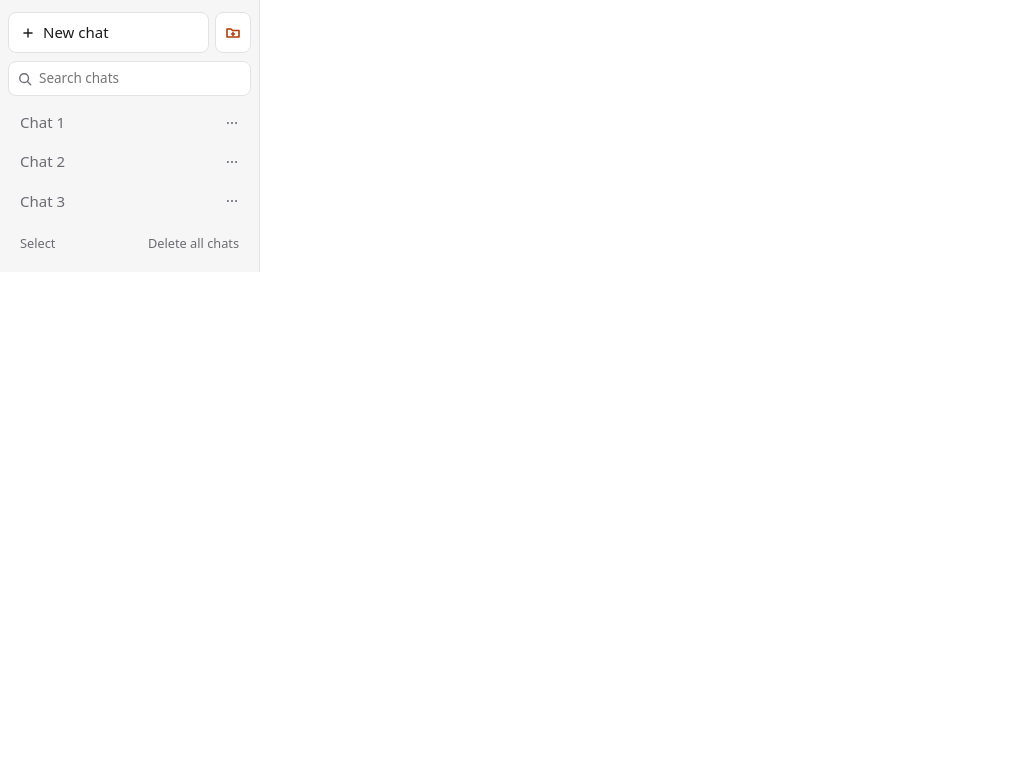
Test: select mode › deletes the ticked chats after confirming, then leaves select mode
Click the button "Select" at (38, 244), box [8,228,67,260]
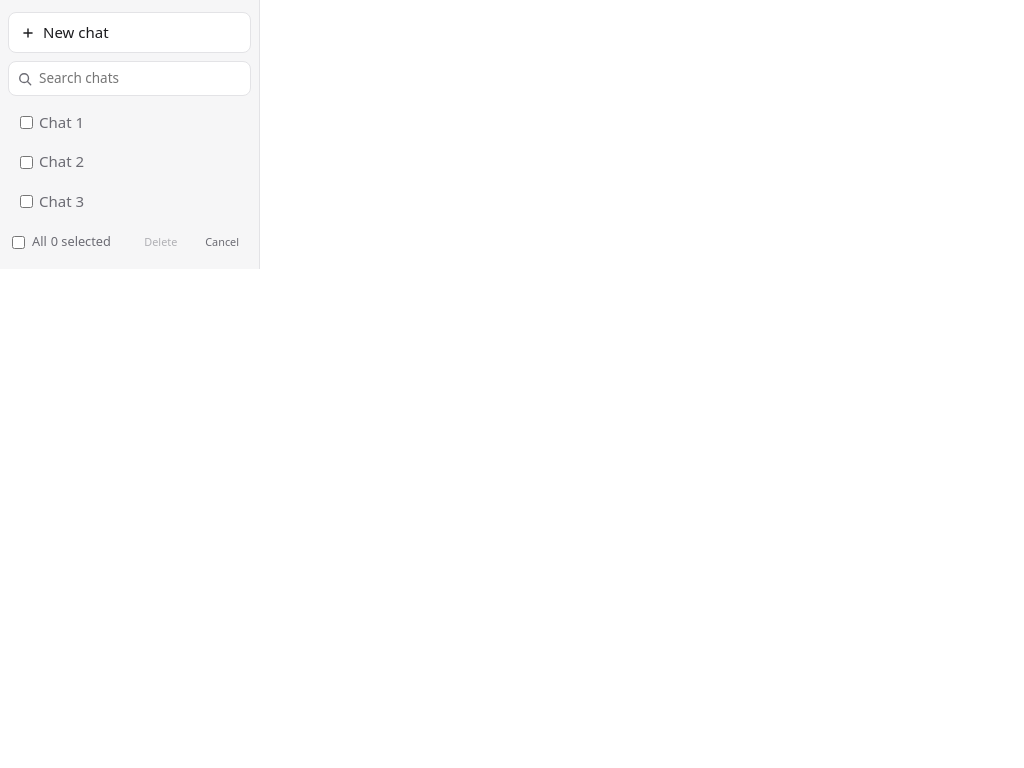
Click the list item "Chat 1" at (52, 122), box [20,112,84,132]
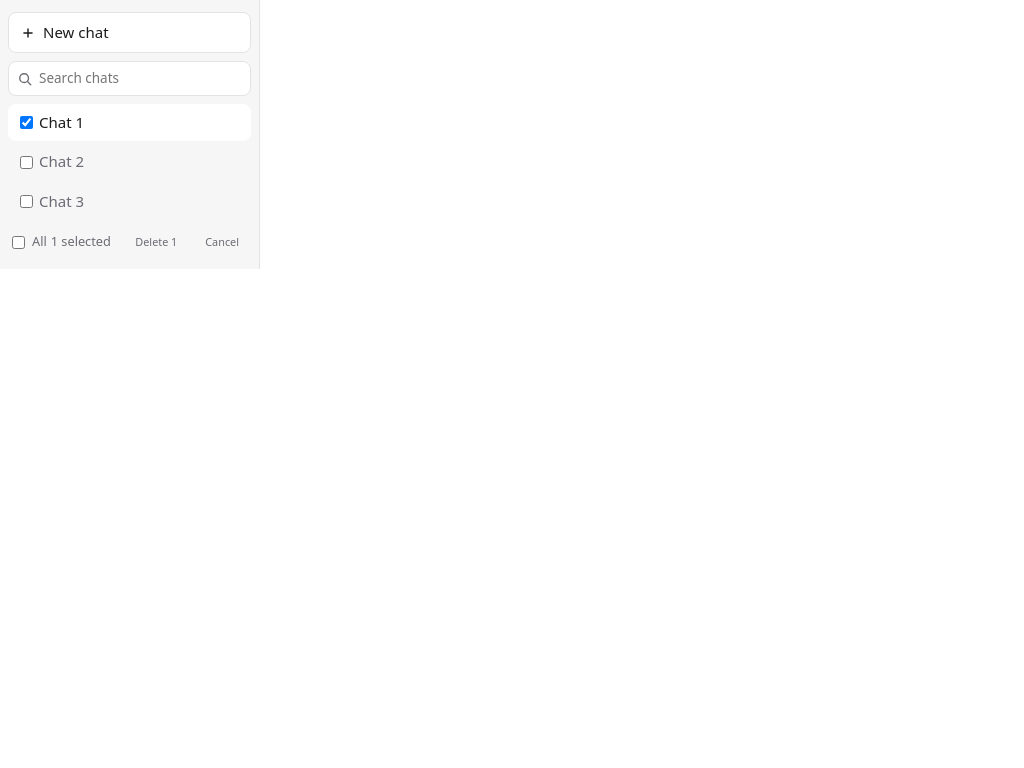
Click the list item "Chat 3" at (52, 201), box [20,191,84,211]
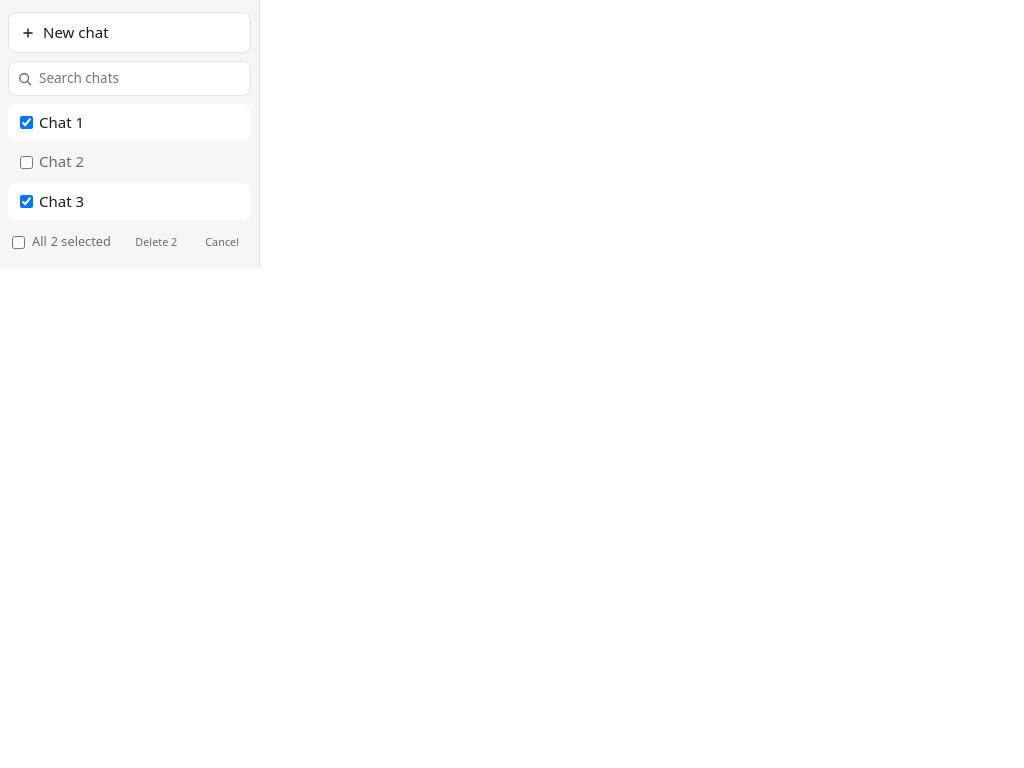
Click the button with class "danger" at (156, 242), box [123,228,189,257]
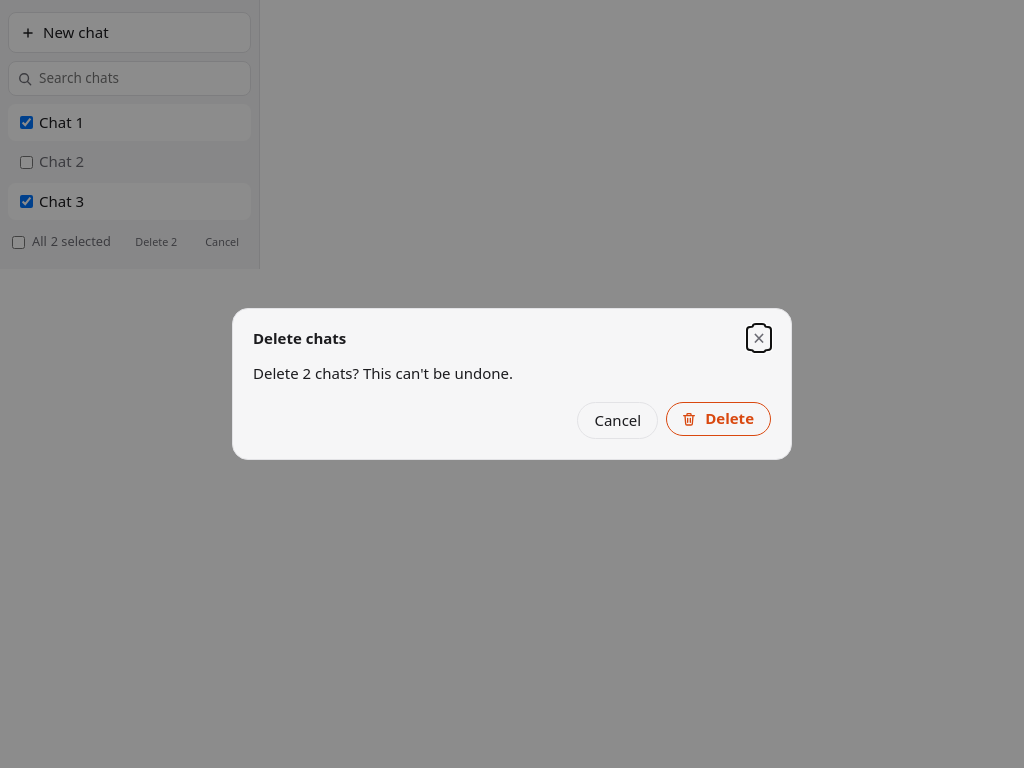
Now the text "Delete 2 chats? This can't be undone." is shown, box [253,363,513,383]
Click the button with class "confirm" at (719, 419), box [666,402,771,436]
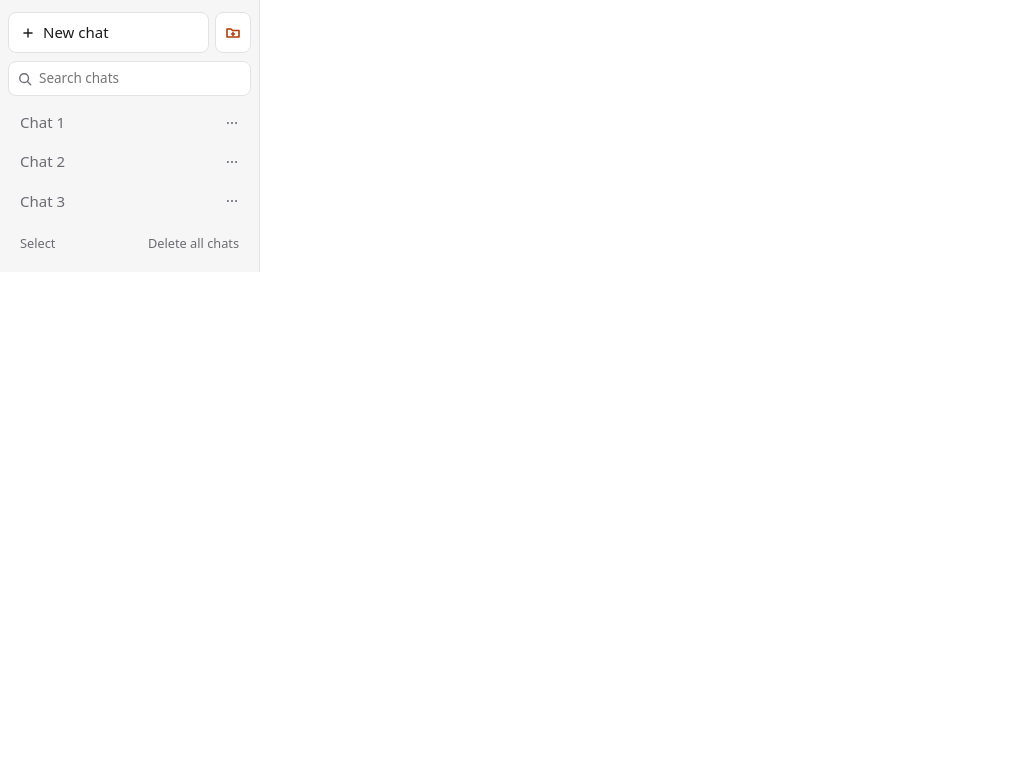
Now no checkboxes with class "tick" are shown
